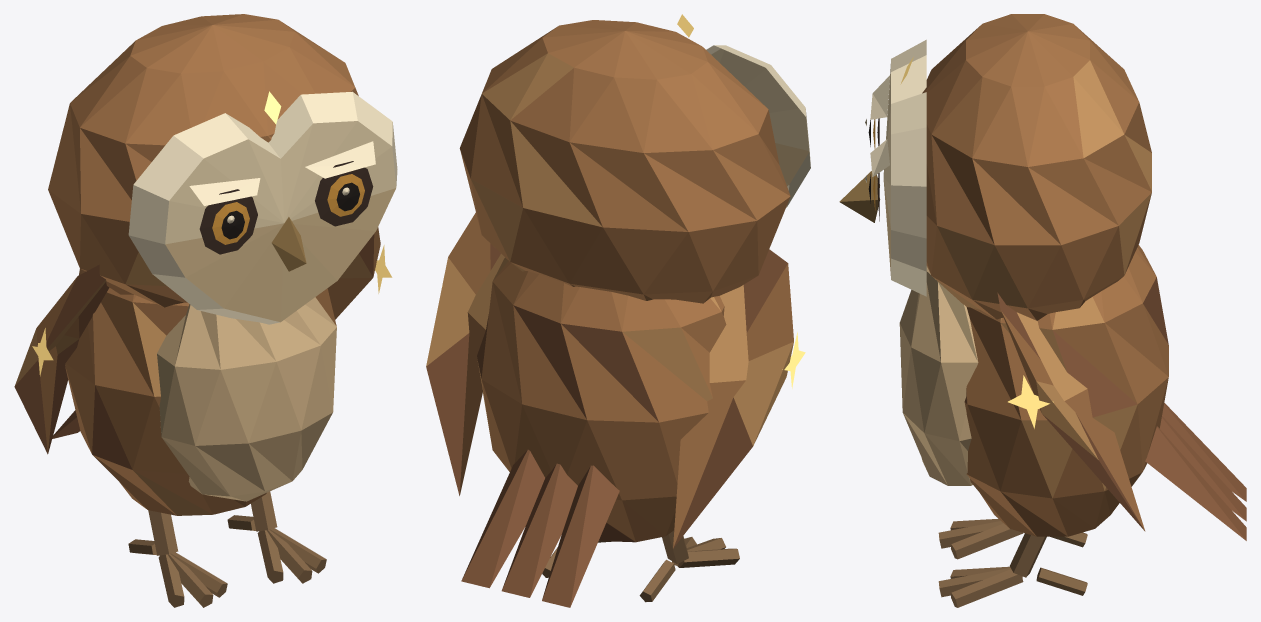
The model's file is space-owl-v01.fbx.
3 views of the same model, side by side, from view 1: azimuth 30°, elevation 25°; view 2: azimuth 150°, elevation 25°; view 3: azimuth 270°, elevation 25° (orthographic).
Parts seen in each view (by area): view 1: Head, Heart_Facial_Disc, Breast, Body, Wing_L, Wing_R, EyeSocket_-1, EyeSocket_1, Brow_1, Brow_-1, Beak, Ankle_-1 (+9 smaller); view 2: Head, Body, Wing_L, Wing_R, Heart_Facial_Disc, Tail_-1, Tail_1, Tail_0, Toe_-1_-1, BackToe_-1, Ankle_-1; view 3: Head, Body, Breast, Heart_Facial_Disc, Wing_R, Tail_1, Tail_0, Tail_-1, Toe_1_1, Toe_-1_1, Beak, Ankle_1 (+5 smaller).
Boxes of the visible parts, x1,y1,x2,y2 form: Head: (48, 14, 358, 307); Heart_Facial_Disc: (128, 91, 397, 324); Breast: (157, 297, 336, 501); Body: (65, 268, 336, 515); Wing_L: (14, 264, 109, 454); Wing_R: (327, 227, 380, 319); EyeSocket_-1: (199, 189, 257, 254); EyeSocket_1: (315, 161, 373, 226); Brow_1: (305, 141, 375, 178); Brow_-1: (189, 178, 260, 205); Beak: (271, 217, 306, 271); Ankle_-1: (148, 510, 178, 555); Head: (459, 20, 790, 303); Body: (477, 257, 726, 542); Wing_L: (673, 249, 793, 548); Wing_R: (426, 212, 504, 495); Heart_Facial_Disc: (706, 45, 810, 207); Tail_-1: (542, 465, 619, 607); Tail_1: (461, 449, 544, 588); Tail_0: (501, 463, 577, 597); Toe_-1_-1: (678, 548, 739, 567); BackToe_-1: (639, 559, 675, 602); Ankle_-1: (662, 530, 688, 563); Head: (922, 14, 1151, 320); Body: (964, 245, 1168, 536); Breast: (899, 266, 978, 485); Heart_Facial_Disc: (883, 39, 926, 296); Wing_R: (997, 292, 1145, 531); Tail_1: (1145, 426, 1246, 540); Tail_0: (1159, 416, 1246, 521); Tail_-1: (1162, 403, 1246, 501); Toe_1_1: (951, 569, 1023, 607); Toe_-1_1: (951, 523, 1023, 559); Beak: (839, 171, 880, 222); Ankle_1: (1010, 533, 1046, 577).
Size of the model in its own units: 0.73 by 1.09 by 0.745.
